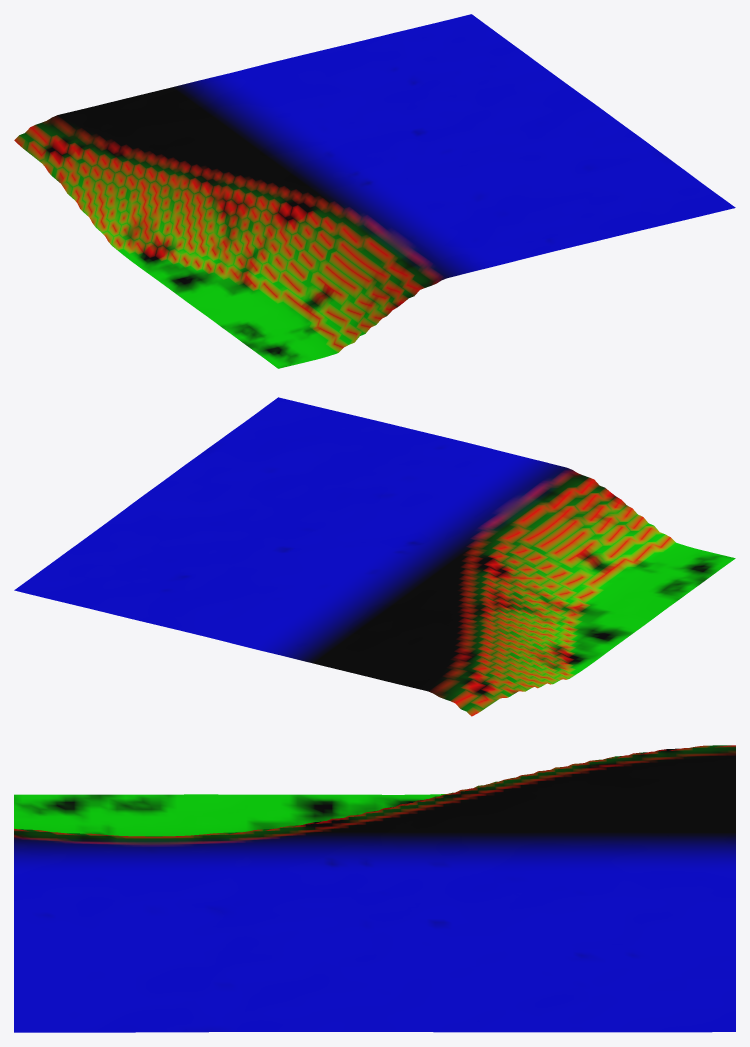
Rendered from SM_RiyadhNights_Terrain_3_1.fbx.
The picture shows the model from 3 angles, top to bottom: view 1: azimuth 30°, elevation 25°; view 2: azimuth 150°, elevation 25°; view 3: azimuth 270°, elevation 25°; orthographic projection. The views are drawn at different scales.
Visible parts, largest first — view 1: SM_RiyadhNights_Terrain_3_1; view 2: SM_RiyadhNights_Terrain_3_1; view 3: SM_RiyadhNights_Terrain_3_1.
Part boxes in pixels (<box>): SM_RiyadhNights_Terrain_3_1: <box>14,14,735,368</box>; SM_RiyadhNights_Terrain_3_1: <box>14,397,735,716</box>; SM_RiyadhNights_Terrain_3_1: <box>14,745,735,1032</box>.
Bounding box in the file's own units: 50400 × 5327 × 50400.
